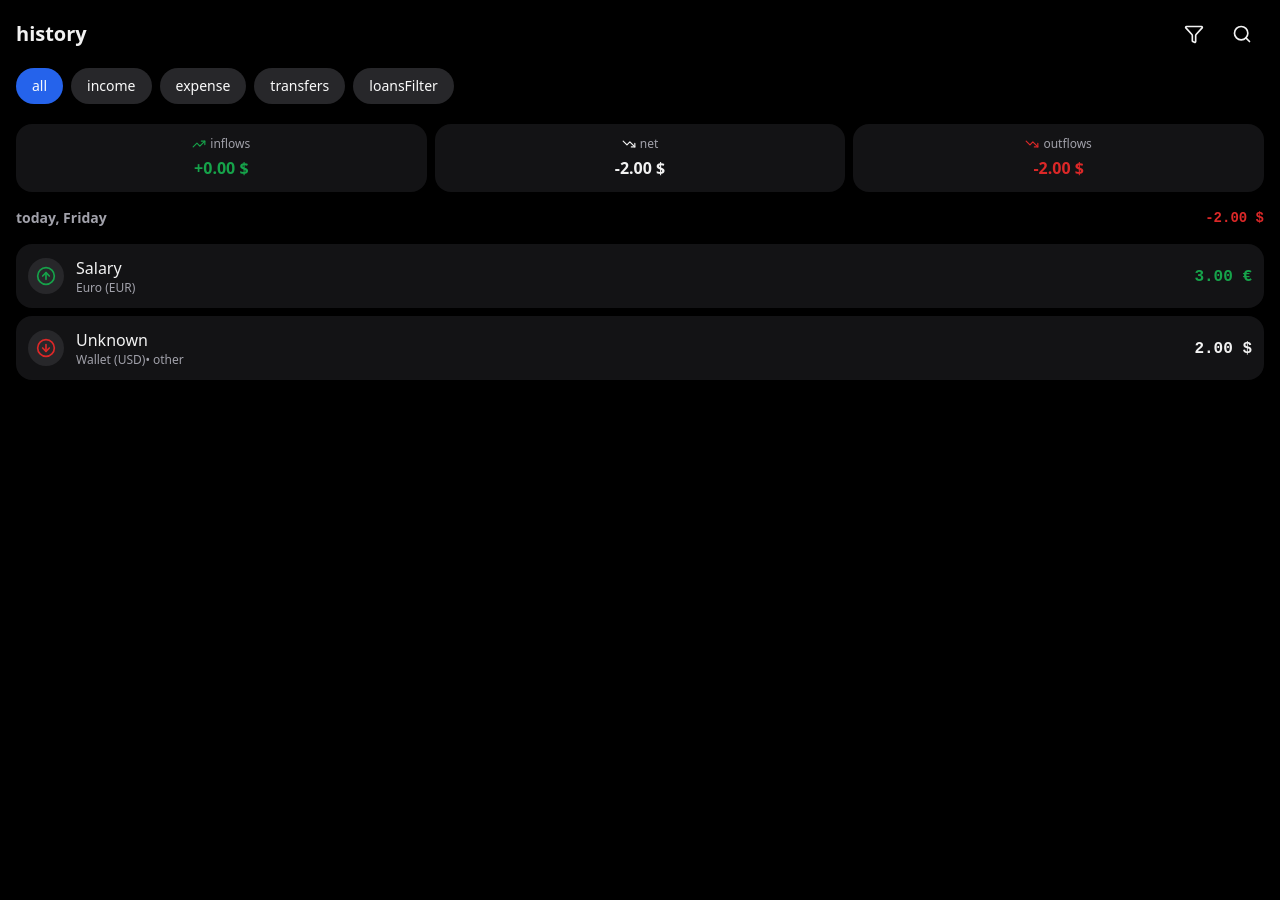
Scenario: HistoryPage list › hides older transactions for thisWeek
Click the button with class "lucide-funnel".
click(1194, 34)  # box [1172,12,1216,56]
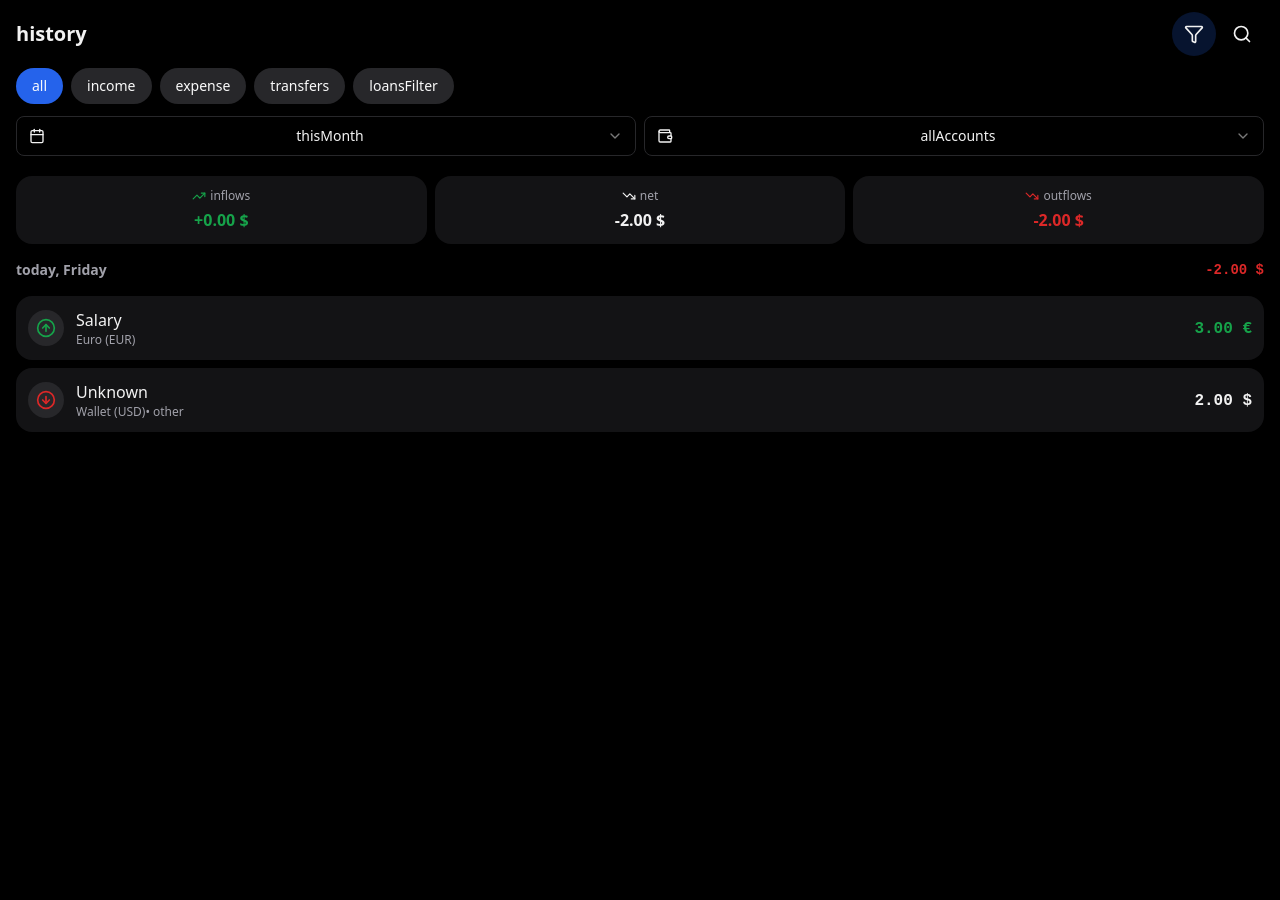
Click the button "thisMonth".
click(326, 136)  # box [16,116,636,156]
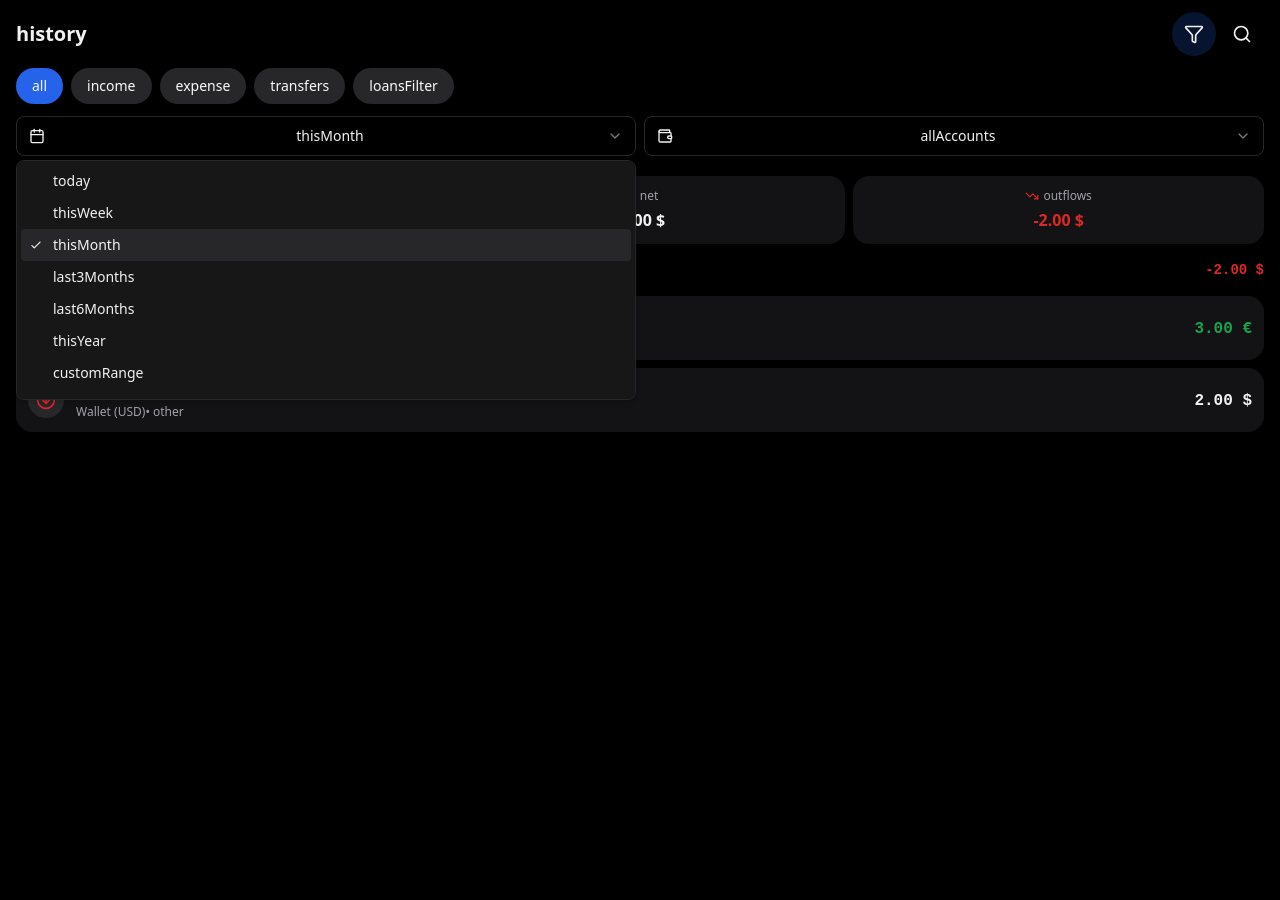
Click the option "thisWeek".
click(83, 212)  # box [53,203,113,222]
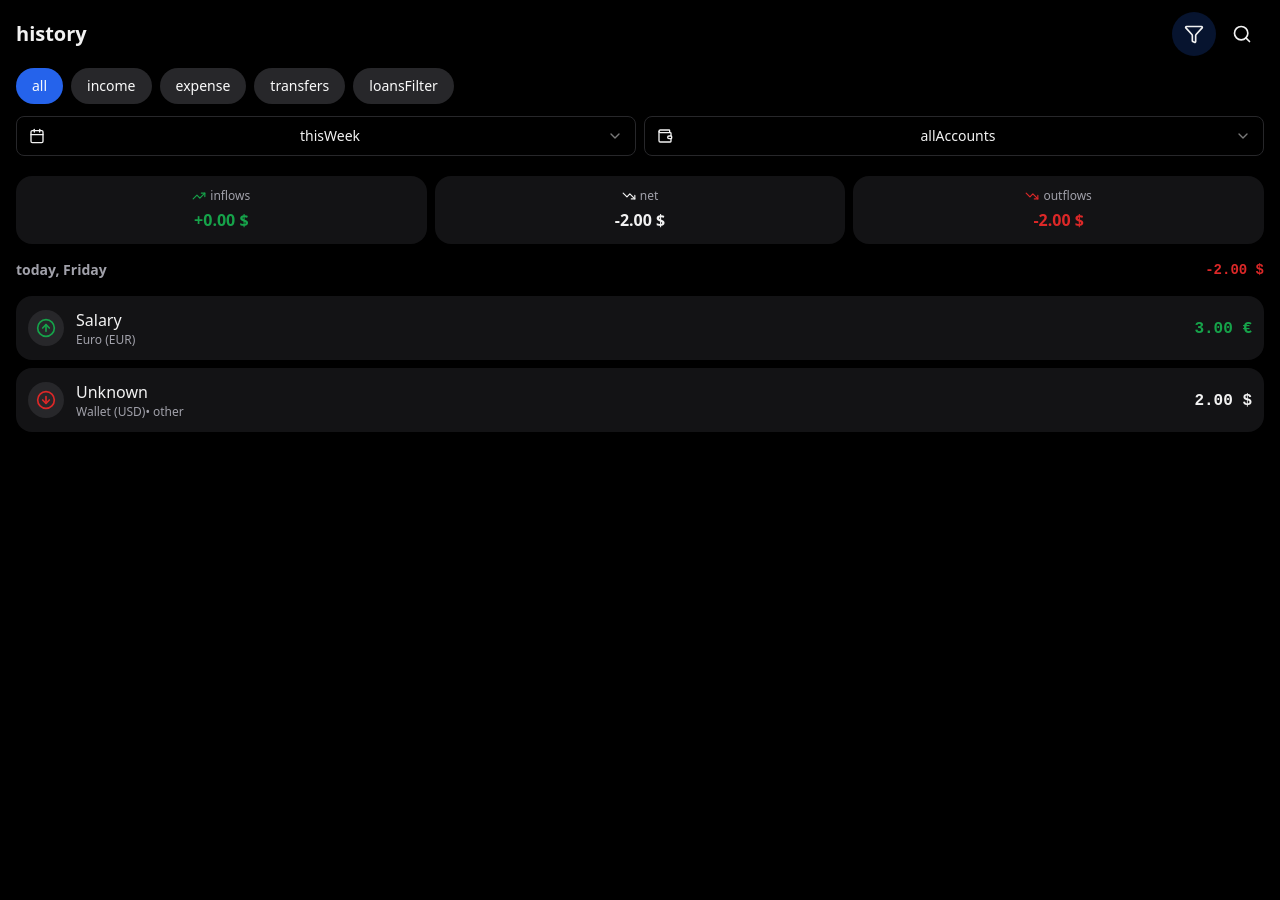
Check: the text "• other" is shown, box [145,404,184,420]
Check: the button "thisWeek" is shown, box [16,116,636,156]
